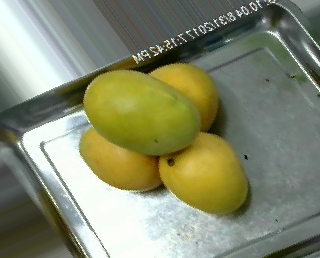Mango: (77, 65, 205, 155), (152, 130, 253, 222), (73, 121, 165, 195), (141, 59, 226, 131)
